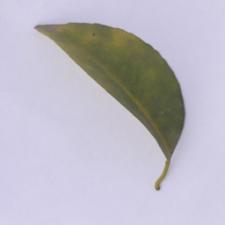Greening: (34, 25, 187, 168)
